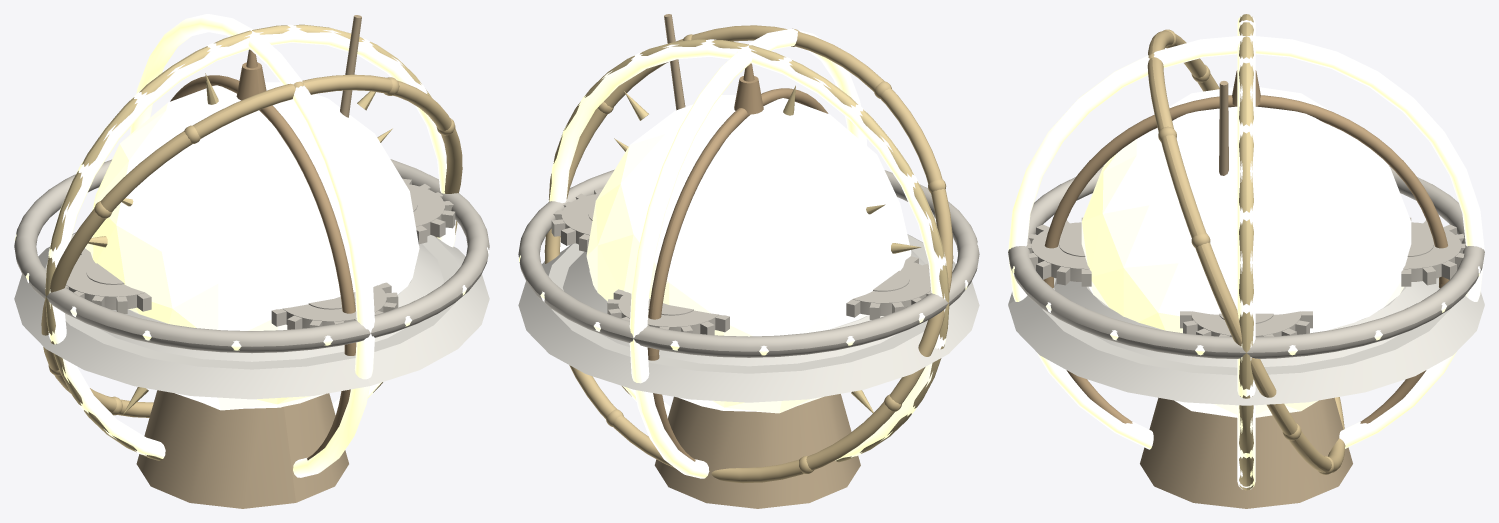
File: atlas-hero.glb
3 renders of one model, left to right at view 1: azimuth 30°, elevation 25°; view 2: azimuth 150°, elevation 25°; view 3: azimuth 270°, elevation 25°, orthographic. The views are drawn at different scales.
Visible parts, largest first — view 1: SM_Atlas_AetherCore, SM_Atlas_Plinth_01, SM_Atlas_GearCluster, SM_Atlas_ScholarFigure, SM_Atlas_RingEcliptic, SM_Atlas_MeridianOuter, SM_Atlas_RetePlate; view 2: SM_Atlas_AetherCore, SM_Atlas_Plinth_01, SM_Atlas_GearCluster, SM_Atlas_ScholarFigure, SM_Atlas_RingEcliptic, SM_Atlas_RetePlate, SM_Atlas_MeridianOuter; view 3: SM_Atlas_AetherCore, SM_Atlas_Plinth_01, SM_Atlas_GearCluster, SM_Atlas_ScholarFigure, SM_Atlas_RingEcliptic, SM_Atlas_MeridianOuter, SM_Atlas_RetePlate.
Boxes of the visible parts, x1=… form: SM_Atlas_AetherCore: x1=14, y1=14, x2=489, y2=477; SM_Atlas_Plinth_01: x1=14, y1=232, x2=489, y2=399; SM_Atlas_GearCluster: x1=14, y1=159, x2=489, y2=353; SM_Atlas_ScholarFigure: x1=136, y1=15, x2=361, y2=508; SM_Atlas_RingEcliptic: x1=41, y1=74, x2=462, y2=417; SM_Atlas_MeridianOuter: x1=170, y1=49, x2=356, y2=460; SM_Atlas_RetePlate: x1=45, y1=24, x2=457, y2=460; SM_Atlas_AetherCore: x1=519, y1=29, x2=978, y2=478; SM_Atlas_Plinth_01: x1=518, y1=234, x2=979, y2=402; SM_Atlas_GearCluster: x1=518, y1=169, x2=979, y2=357; SM_Atlas_ScholarFigure: x1=654, y1=14, x2=860, y2=508; SM_Atlas_RingEcliptic: x1=544, y1=25, x2=953, y2=483; SM_Atlas_RetePlate: x1=548, y1=39, x2=949, y2=462; SM_Atlas_MeridianOuter: x1=647, y1=63, x2=828, y2=461; SM_Atlas_AetherCore: x1=1008, y1=15, x2=1484, y2=489; SM_Atlas_Plinth_01: x1=1008, y1=278, x2=1484, y2=405; SM_Atlas_GearCluster: x1=1008, y1=166, x2=1484, y2=358; SM_Atlas_ScholarFigure: x1=1140, y1=81, x2=1352, y2=508; SM_Atlas_RingEcliptic: x1=1147, y1=29, x2=1345, y2=474; SM_Atlas_MeridianOuter: x1=1043, y1=70, x2=1449, y2=423; SM_Atlas_RetePlate: x1=1239, y1=14, x2=1253, y2=490.
Size of the model in its own units: 2 by 2 by 2.
